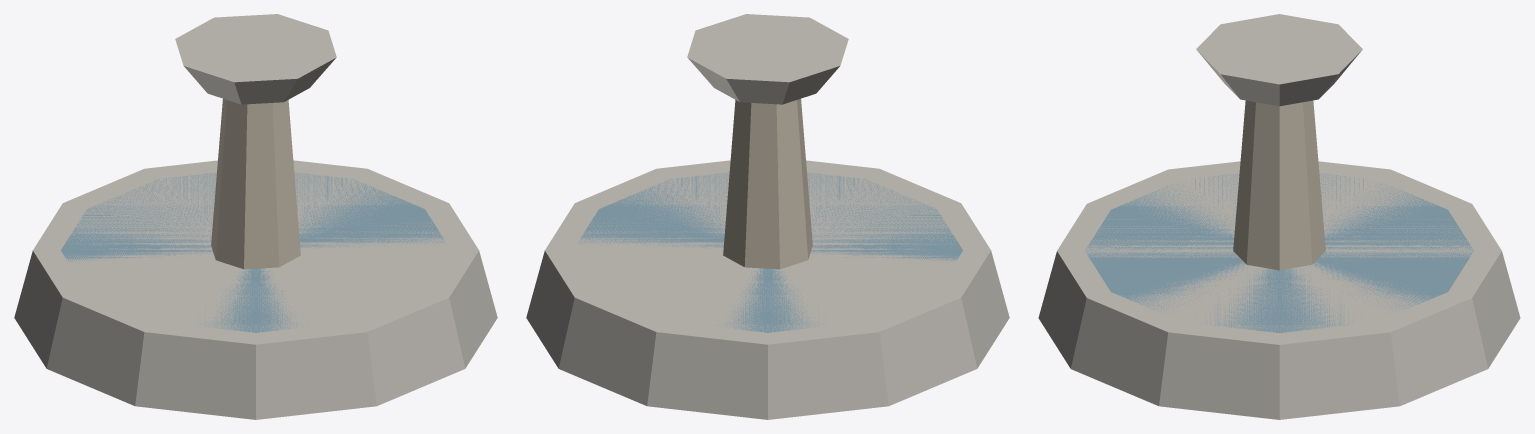
3 renders of one model, left to right at view 1: azimuth 30°, elevation 25°; view 2: azimuth 150°, elevation 25°; view 3: azimuth 270°, elevation 25°, orthographic.
Visible parts, largest first — view 1: structure.fountain; view 2: structure.fountain; view 3: structure.fountain.
Part boxes in pixels (x1,y1,x2,y2): structure.fountain: (14, 14, 497, 419); structure.fountain: (526, 14, 1009, 419); structure.fountain: (1038, 14, 1520, 419).
Size of the model in its own units: 5.2 by 3.2 by 5.2.
